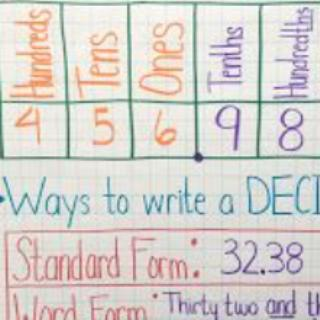.: (258, 266, 267, 277)
2: (241, 238, 261, 275)
3: (221, 236, 242, 277), (265, 239, 285, 274)
4: (11, 105, 44, 149)
5: (90, 105, 117, 148)
6: (152, 106, 179, 148)
8: (278, 105, 305, 152), (286, 241, 304, 275)
9: (214, 104, 244, 154)
